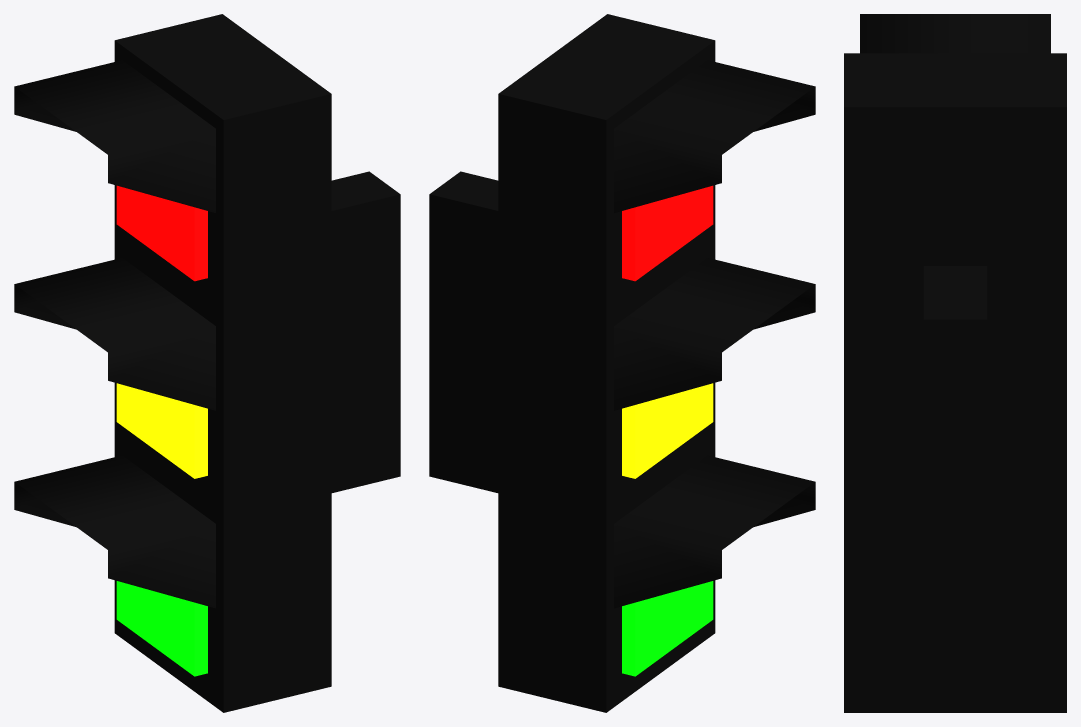
Rendered from Phore.fbx.
The picture shows the model from 3 angles, left to right: view 1: azimuth 30°, elevation 25°; view 2: azimuth 150°, elevation 25°; view 3: azimuth 270°, elevation 25°; orthographic projection. The views are drawn at different scales.
Visible parts, largest first — view 1: Phore Element Base, Phore Handle, Phore Element Visor G, Phore Element Visor R, Phore Element Visor Y, Phore Element MeshedLight R, Phore Element MeshedLight G, Phore Element MeshedLight Y; view 2: Phore Element Base, Phore Handle, Phore Element Visor G, Phore Element Visor R, Phore Element Visor Y, Phore Element MeshedLight R, Phore Element MeshedLight G, Phore Element MeshedLight Y; view 3: Phore Element Base, Phore Handle, Phore Element Visor R.
Boxes of the visible parts, box(x1,y1,x2,y2) form: Phore Element Base: box(114, 14, 331, 712); Phore Handle: box(331, 171, 400, 492); Phore Element Visor G: box(14, 455, 215, 608); Phore Element Visor R: box(14, 60, 215, 212); Phore Element Visor Y: box(14, 258, 215, 410); Phore Element MeshedLight R: box(116, 185, 207, 281); Phore Element MeshedLight G: box(116, 581, 207, 676); Phore Element MeshedLight Y: box(116, 383, 207, 478); Phore Element Base: box(498, 14, 715, 712); Phore Handle: box(429, 171, 498, 492); Phore Element Visor G: box(614, 455, 815, 608); Phore Element Visor R: box(614, 60, 815, 212); Phore Element Visor Y: box(614, 258, 815, 410); Phore Element MeshedLight R: box(622, 185, 713, 281); Phore Element MeshedLight G: box(622, 581, 713, 676); Phore Element MeshedLight Y: box(622, 383, 713, 478); Phore Element Base: box(844, 53, 1066, 712); Phore Handle: box(923, 266, 987, 607); Phore Element Visor R: box(860, 14, 1050, 53).
Bounding box in the file's own units: 0.6 × 1.05 × 0.35.
